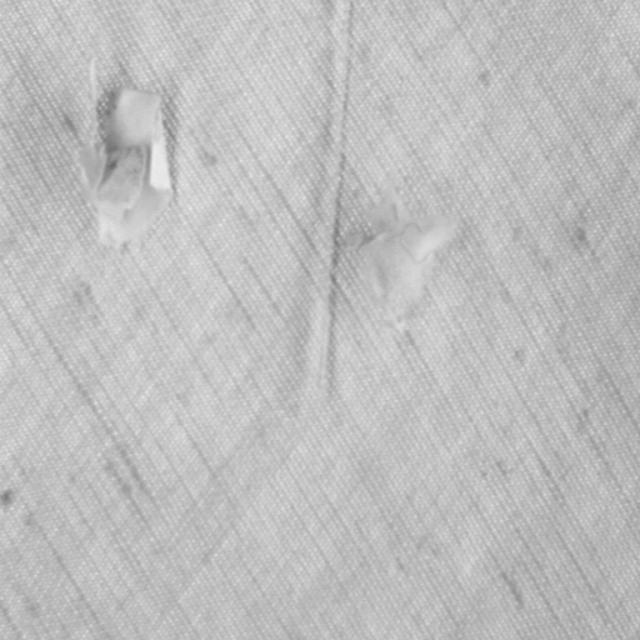objects: (68, 55, 178, 244), (312, 0, 361, 399), (342, 180, 455, 334)
